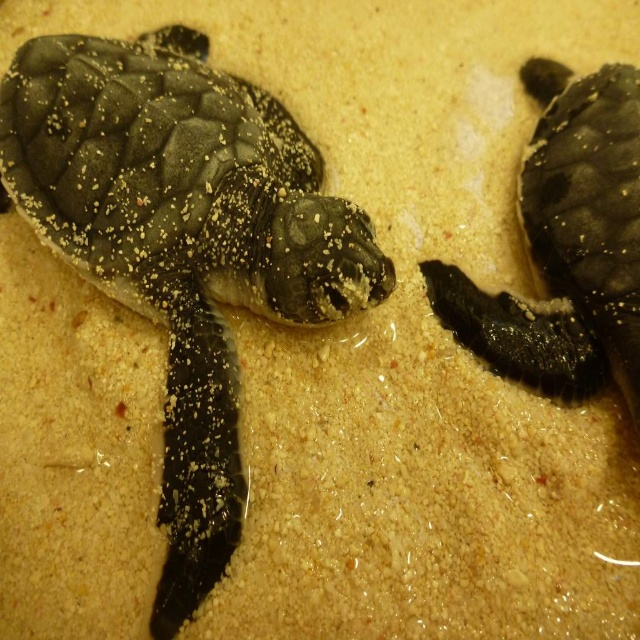Sea turtle: (0, 23, 395, 639), (417, 53, 640, 446)
